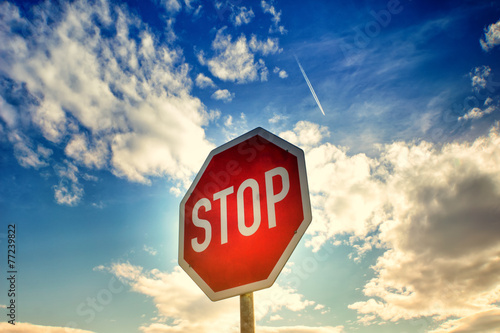StopSign: (176, 126, 311, 301)
